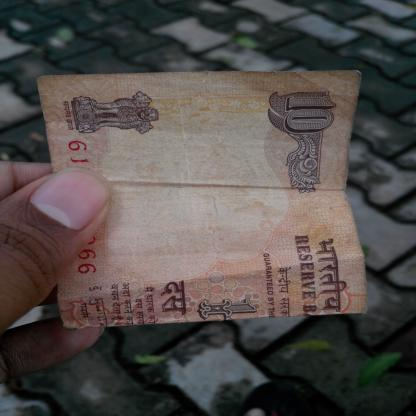Old10Front: (37, 69, 371, 331)
